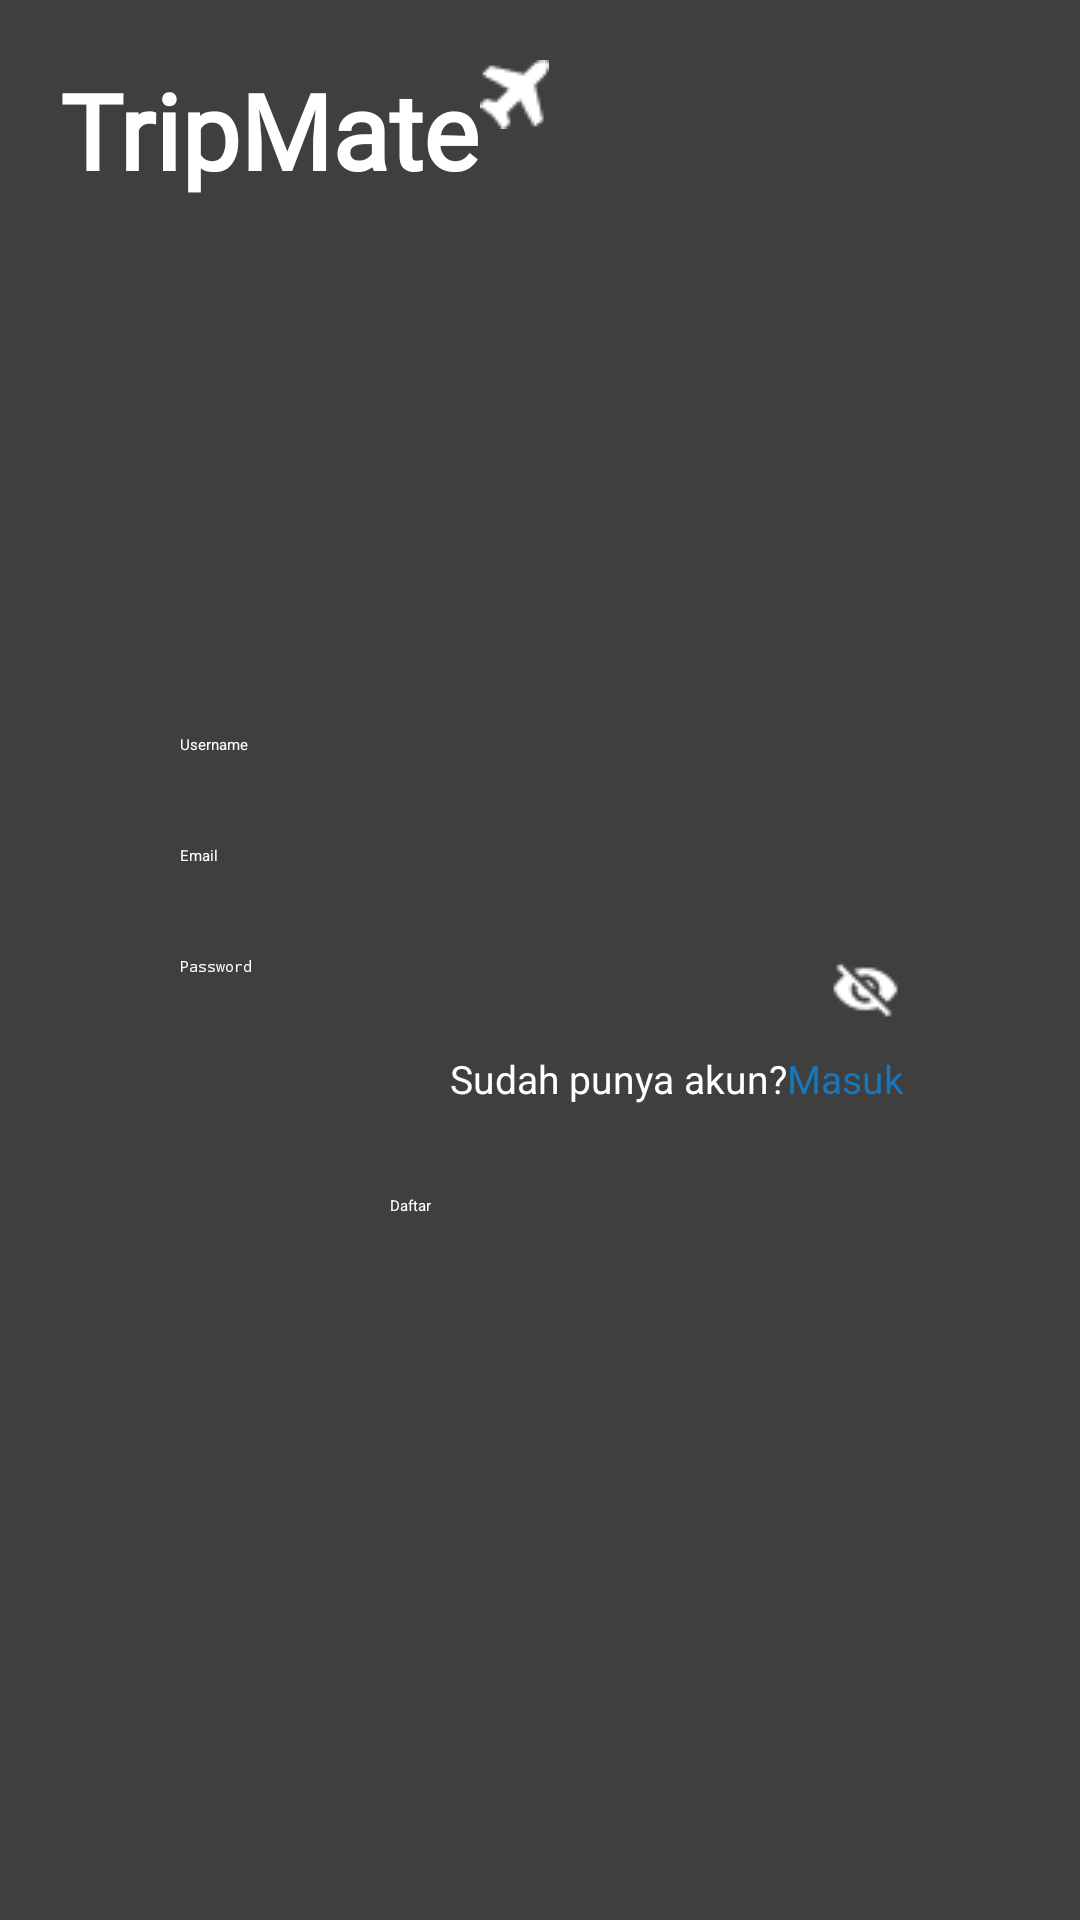

Icon bounding boxes for this 1080*1920 phone screenshot, format (x1, y1, x2, y2):
plane: (480, 60, 549, 129)
